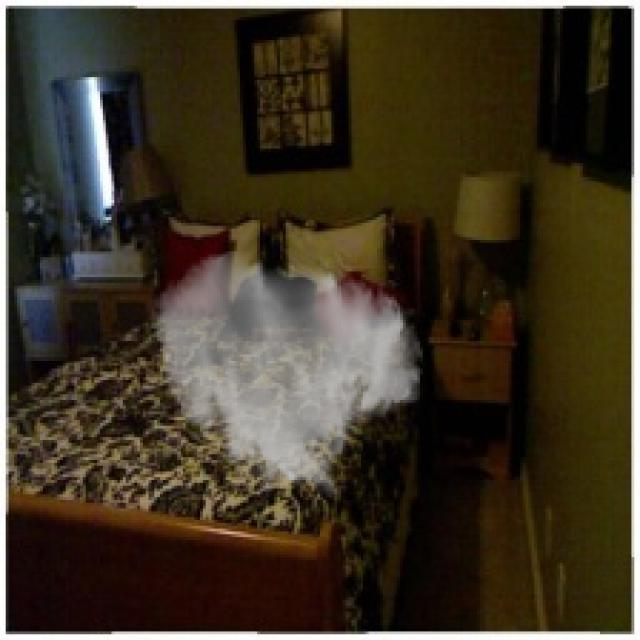smoke: (148, 249, 426, 500)
